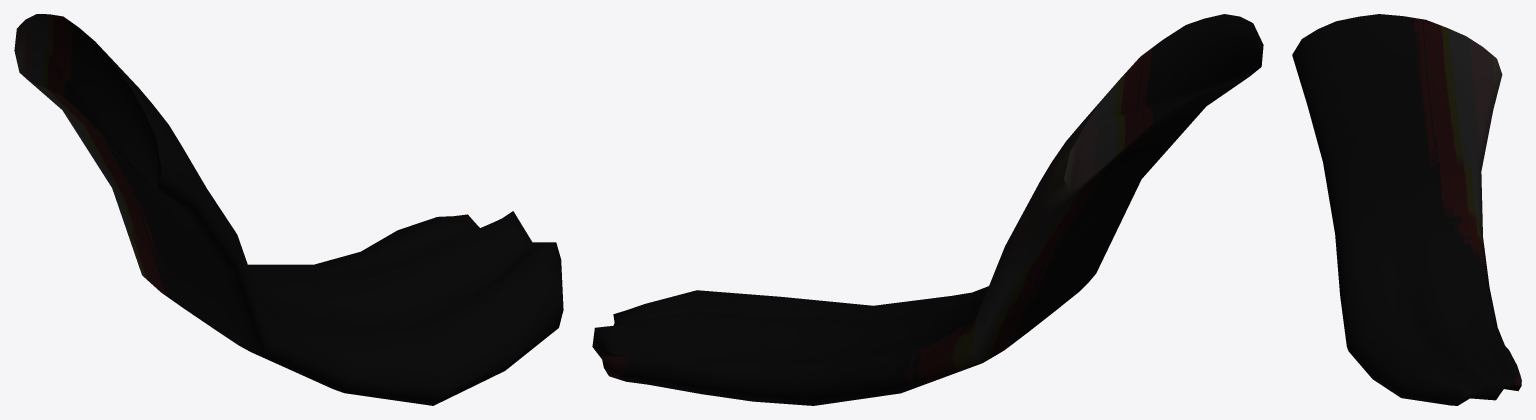
Rendered from foca_aleta_S_Izquierda.obj.
3 views of the same model, side by side, from view 1: azimuth 30°, elevation 25°; view 2: azimuth 150°, elevation 25°; view 3: azimuth 270°, elevation 25° (orthographic). The views are drawn at different scales.
Parts seen in each view (by area): view 1: sea; view 2: sea; view 3: sea.
Part boxes in pixels (x1,y1,x2,y2): sea: (14,14,563,405); sea: (592,14,1263,405); sea: (1292,14,1521,405).
Size of the model in its own units: 0.9179 by 0.6898 by 0.5729.
1 material, 1 textured.
